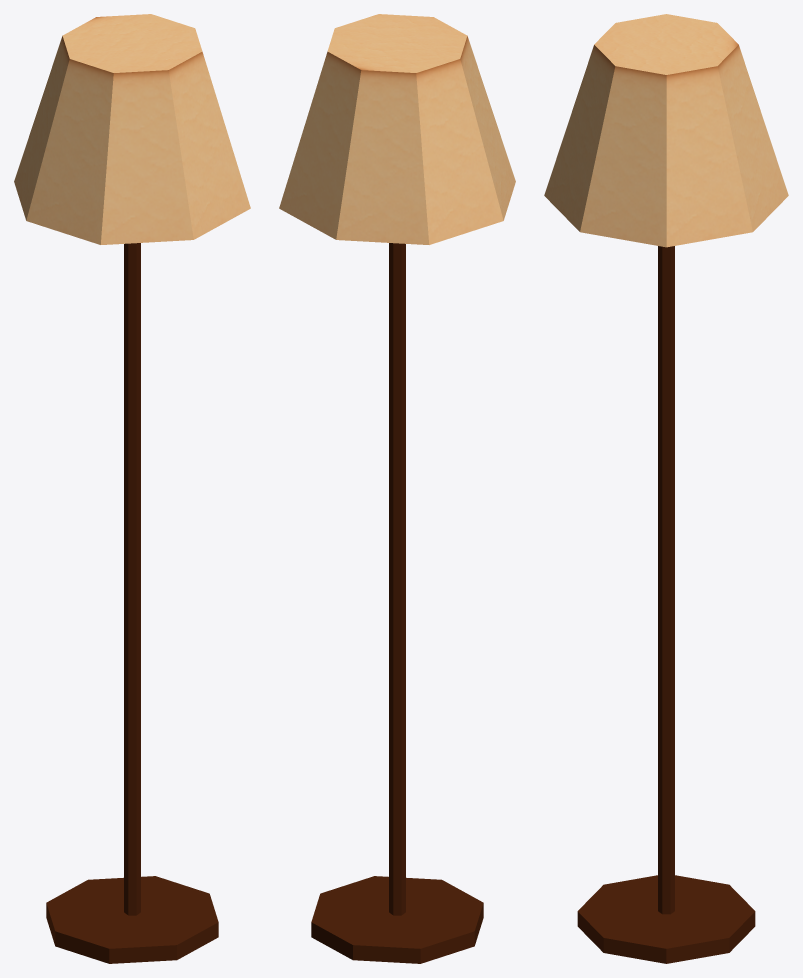
File: Lamp_Floor.fbx
The picture shows the model from 3 angles, left to right: view 1: azimuth 30°, elevation 25°; view 2: azimuth 150°, elevation 25°; view 3: azimuth 270°, elevation 25°; orthographic projection.
Parts seen in each view (by area): view 1: Lamp_Floor; view 2: Lamp_Floor; view 3: Lamp_Floor.
Boxes of the visible parts, left/top/right/bottom form: Lamp_Floor: left=14, top=14, right=250, bottom=963; Lamp_Floor: left=279, top=14, right=515, bottom=963; Lamp_Floor: left=544, top=14, right=788, bottom=963.
Size of the model in its own units: 0.44 by 1.75 by 0.44.
